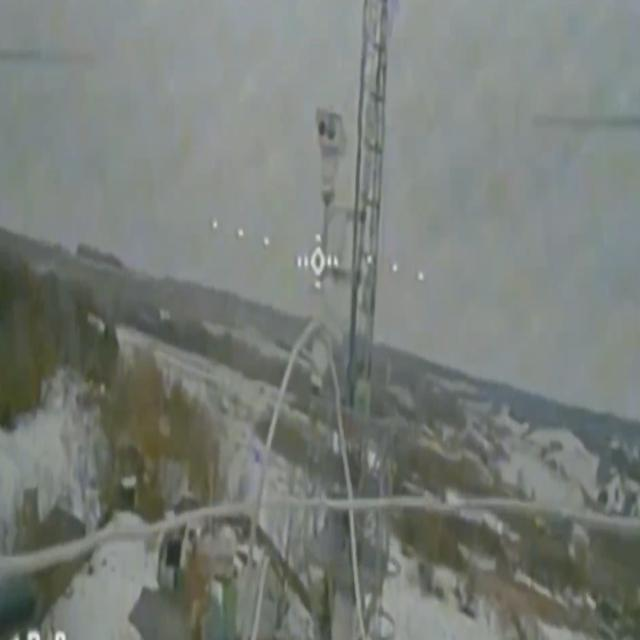fortification: (309, 1, 391, 638)
